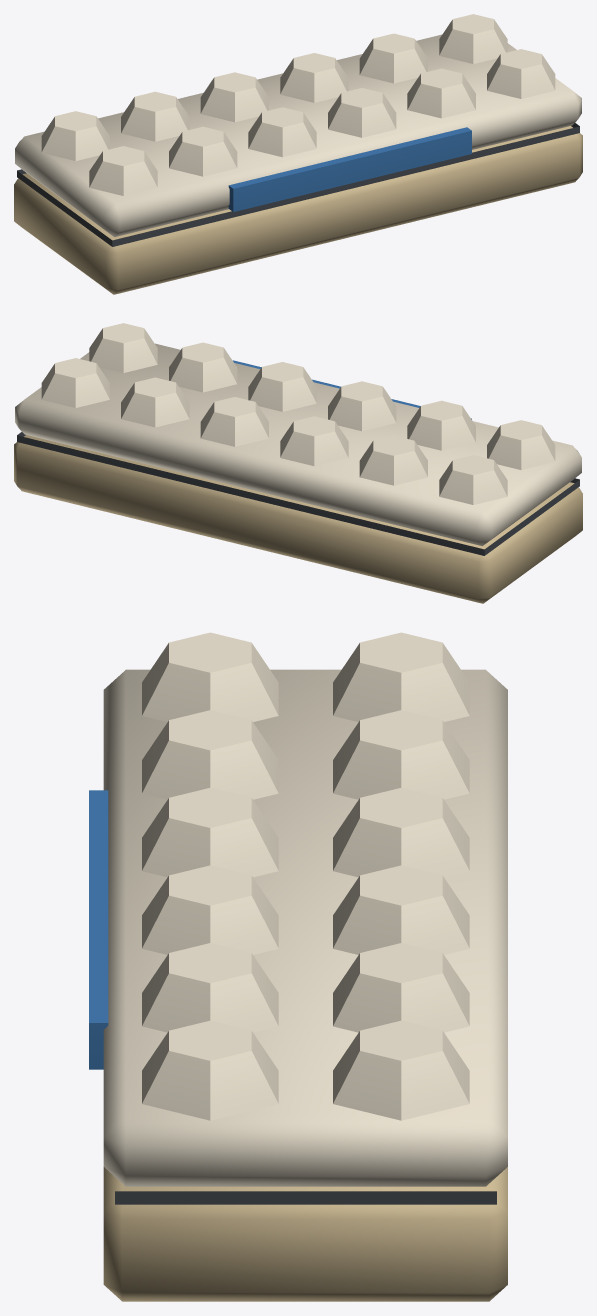
The model's file is Carton_Eggs_01.glb.
The picture shows the model from 3 angles, top to bottom: view 1: azimuth 30°, elevation 25°; view 2: azimuth 150°, elevation 25°; view 3: azimuth 270°, elevation 25°; orthographic projection. The views are drawn at different scales.
Visible parts, largest first — view 1: SM_Carton_Eggs_01; view 2: SM_Carton_Eggs_01; view 3: SM_Carton_Eggs_01.
Part boxes in pixels (x1,y1,x2,y2): SM_Carton_Eggs_01: (14,14,582,294); SM_Carton_Eggs_01: (14,323,582,603); SM_Carton_Eggs_01: (89,632,507,1301).
Size of the model in its own units: 0.3 by 0.069 by 0.114.
1 material, 1 textured.
